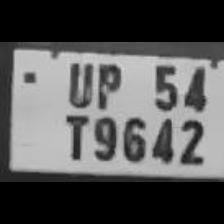2: (174, 114, 206, 166)
4: (177, 62, 209, 112), (148, 112, 174, 164)
5: (148, 60, 180, 110)
6: (118, 112, 146, 164)
9: (88, 111, 118, 161)
P: (92, 58, 122, 108)
T: (58, 109, 90, 161)
U: (62, 58, 94, 108)
